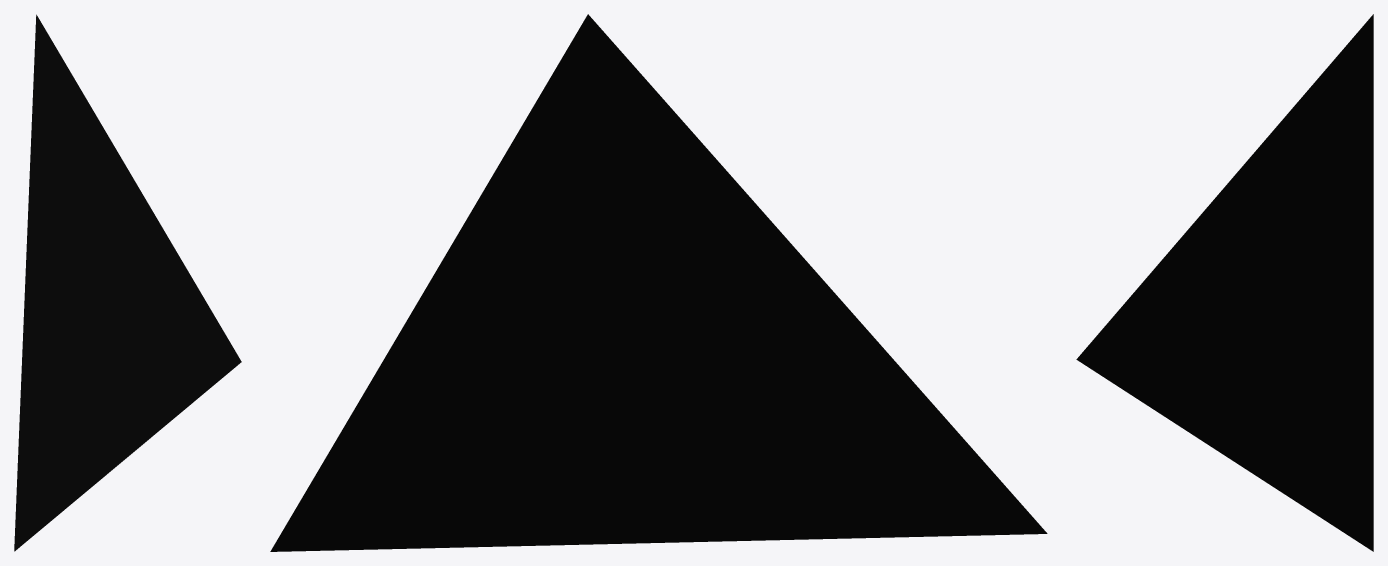
3 renders of one model, left to right at view 1: azimuth 30°, elevation 25°; view 2: azimuth 150°, elevation 25°; view 3: azimuth 270°, elevation 25°, orthographic. The views are drawn at different scales.
Bounding box in the file's own units: 0.0232 × 0.0242 × 0.0152.
1 material, 1 textured.
